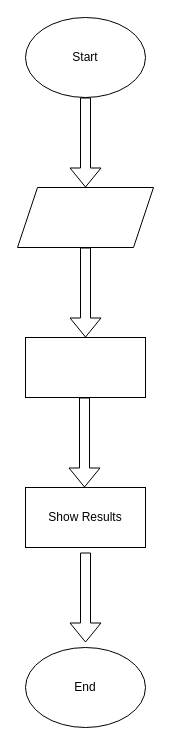
This 171x745 diagram has some shape labels left out. The centre of each missing label's shape, as x and y in pixels:
"Calculated Total Calculated" belongs at (x=85, y=367).
"Read Name,Price,product" belongs at (x=85, y=217).
